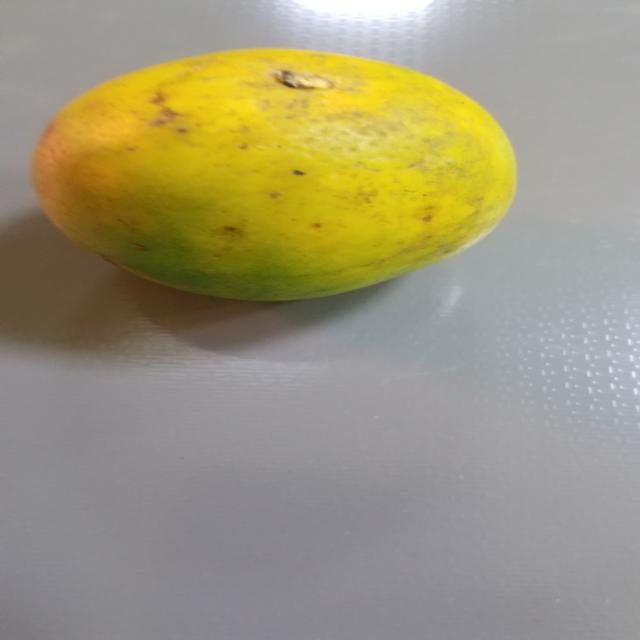Ripe orange: (32, 45, 522, 303)
